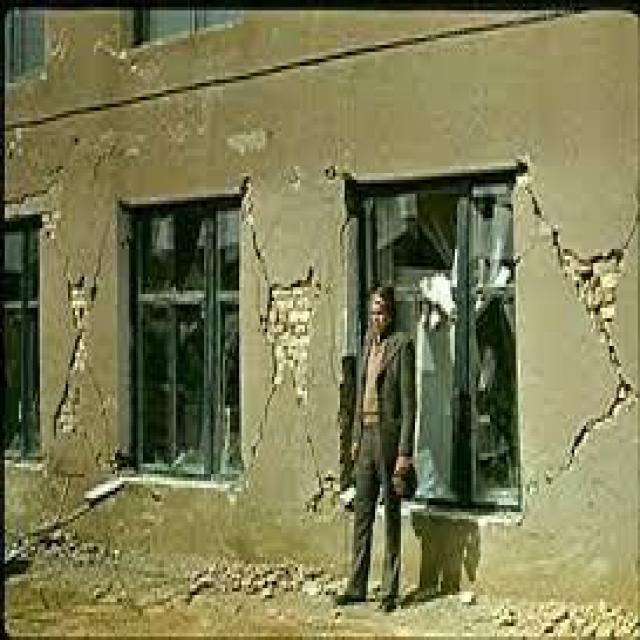damage: (0, 491, 321, 621), (506, 384, 640, 508), (246, 260, 322, 428), (54, 277, 120, 461), (553, 232, 634, 374), (459, 588, 640, 640), (0, 162, 85, 251), (232, 180, 278, 286)
